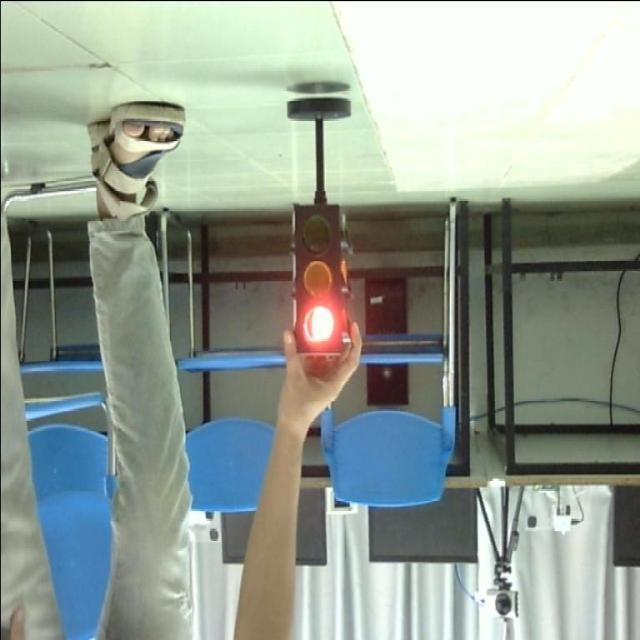red light: (298, 303, 336, 345)
